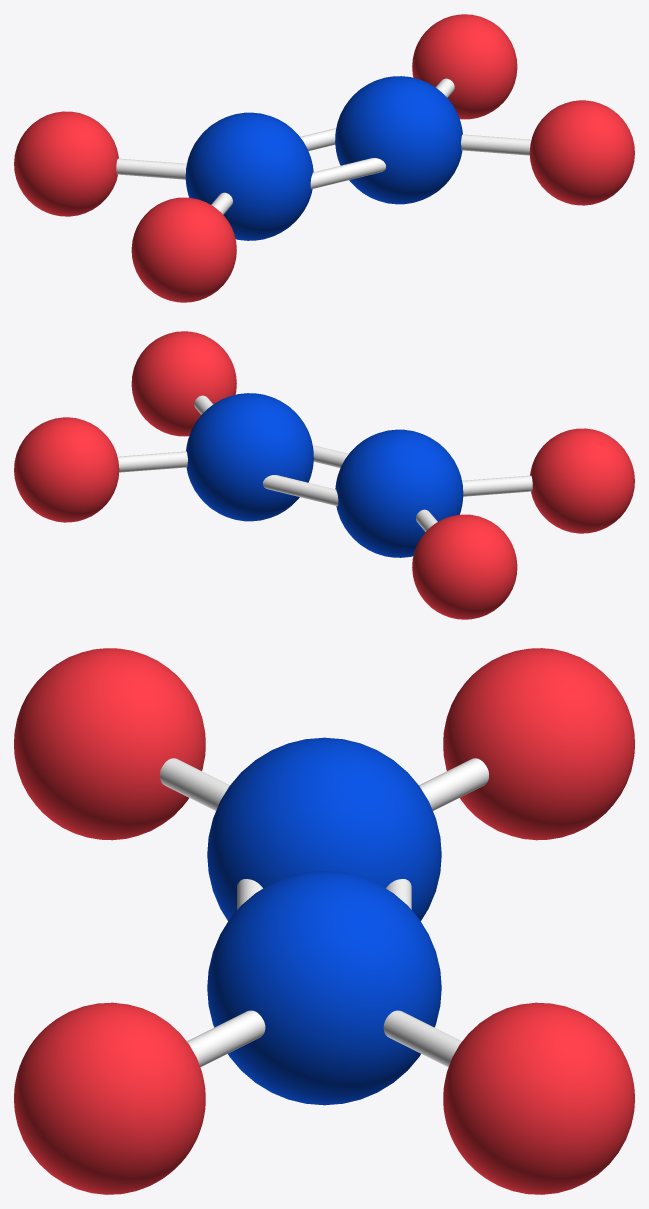
The model's file is 262401_kagakushiki-v1.glb.
The picture shows the model from 3 angles, top to bottom: view 1: azimuth 30°, elevation 25°; view 2: azimuth 150°, elevation 25°; view 3: azimuth 270°, elevation 25°; orthographic projection. The views are drawn at different scales.
Parts seen in each view (by area): view 1: ICO球.002, ICO球, ICO球.001, 円柱.001, 円柱; view 2: ICO球.002, ICO球, ICO球.001, 円柱.001, 円柱; view 3: ICO球.002, ICO球, ICO球.001, 円柱.001, 円柱.
Boxes of the visible parts, left/top/right/bottom form: ICO球.002: left=14, top=14, right=634, bottom=302; ICO球: left=335, top=76, right=462, bottom=204; ICO球.001: left=185, top=112, right=313, bottom=240; 円柱.001: left=116, top=78, right=531, bottom=214; 円柱: left=300, top=128, right=385, bottom=189; ICO球.002: left=14, top=331, right=634, bottom=619; ICO球: left=186, top=393, right=313, bottom=521; ICO球.001: left=335, top=429, right=463, bottom=557; 円柱.001: left=117, top=395, right=532, bottom=531; 円柱: left=263, top=445, right=348, bottom=506; ICO球.002: left=14, top=648, right=634, bottom=1194; ICO球: left=207, top=871, right=441, bottom=1105; ICO球.001: left=207, top=737, right=441, bottom=920; 円柱.001: left=160, top=758, right=488, bottom=1067; 円柱: left=237, top=879, right=411, bottom=909.
Size of the model in its own units: 12.26 by 2.79 by 7.38.
